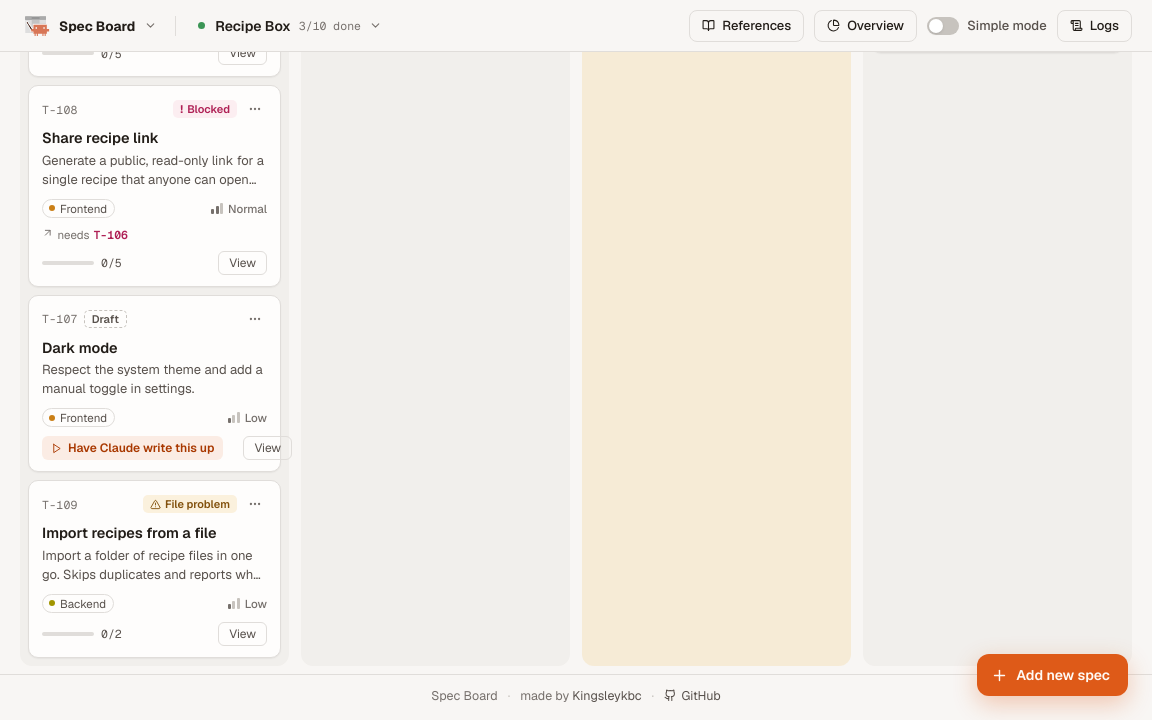
Test: the actions start the right kind › Have Claude write this up: start write-up, toast, and the card shows it is writing
(page scrolled)
Click the button "Have Claude write this up": (133, 448) [42,436,223,460]
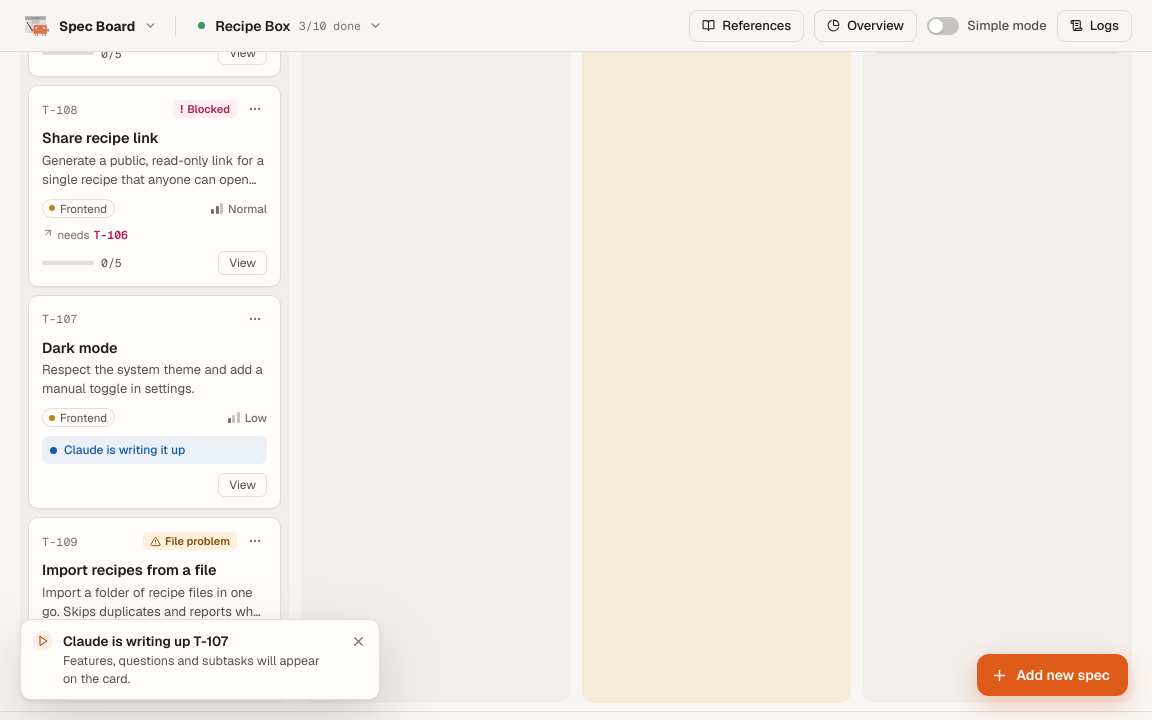
Expected: the text "Claude is writing up T-107" is shown once, [63,632,228,650]
Expected: the text "Claude is writing it up" is shown, [42,436,267,464]
